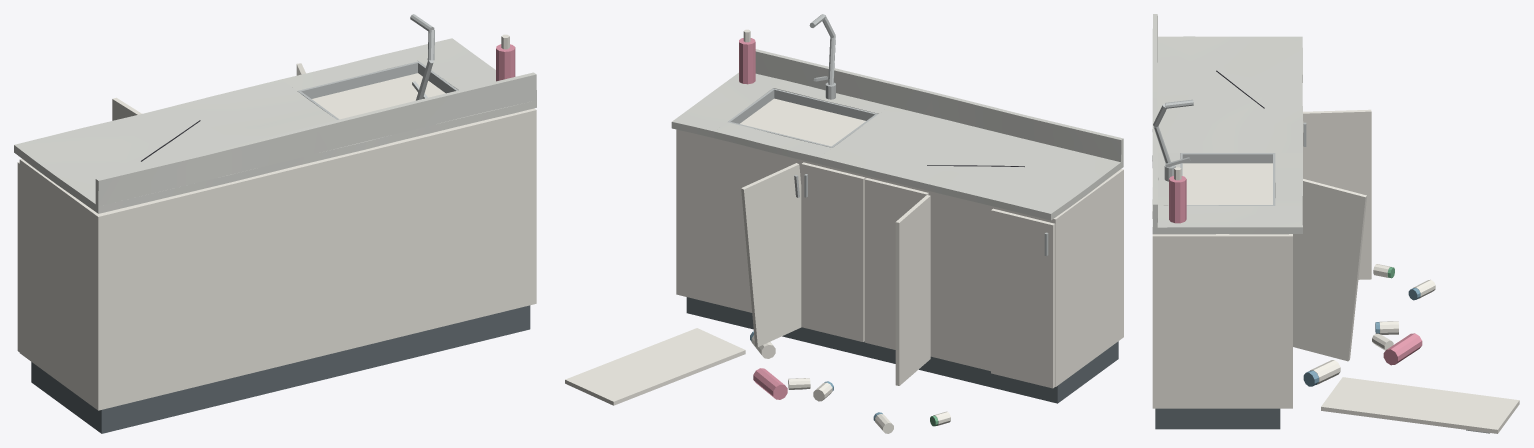
Rendered from sink_counter_broken.fbx.
The picture shows the model from 3 angles, left to right: view 1: azimuth 30°, elevation 25°; view 2: azimuth 150°, elevation 25°; view 3: azimuth 270°, elevation 25°; orthographic projection. The views are drawn at different scales.
Parts seen in each view (by area): view 1: sink_counter_broken; view 2: sink_counter_broken, sink_counter_broken_debris; view 3: sink_counter_broken, sink_counter_broken_debris.
Boxes of the visible parts, x1,y1,x2,y2 form: sink_counter_broken: (14,14,536,433); sink_counter_broken: (671,14,1123,403); sink_counter_broken_debris: (565,328,950,433); sink_counter_broken: (1152,14,1371,429); sink_counter_broken_debris: (1303,264,1519,433).
Size of the model in its own units: 186 by 127 by 147.
